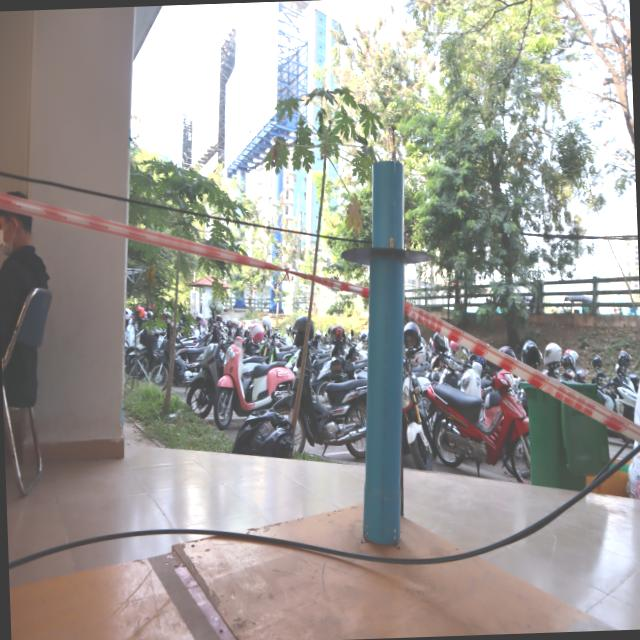pole: (333, 152, 445, 336)
